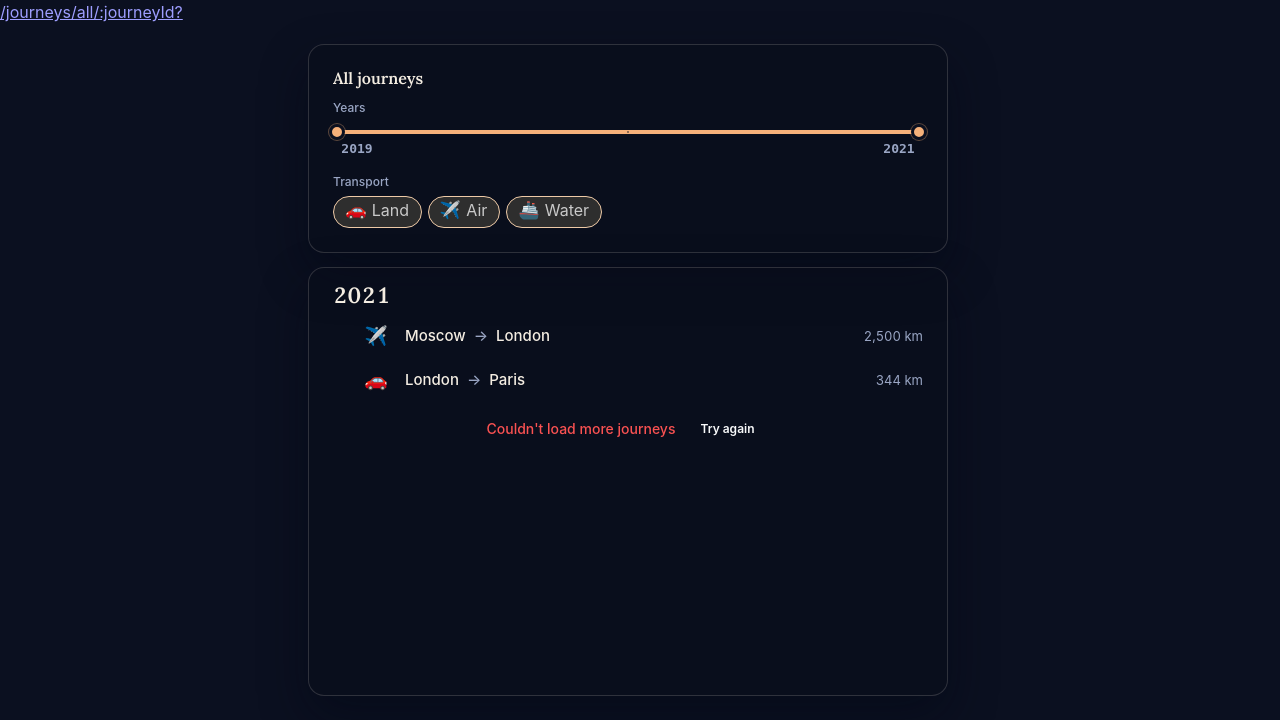
Test: AllJourneysView › порция не догрузилась — сообщение у конца ленты и повтор, который её догружает
expect the text "Couldn't load more journeys" is shown: met, box [486,419,676,439]
expect the element "2021" is shown: met, box [333,268,923,402]
Click the button "Try again". click: (728, 429)
box: [686,414,770,444]
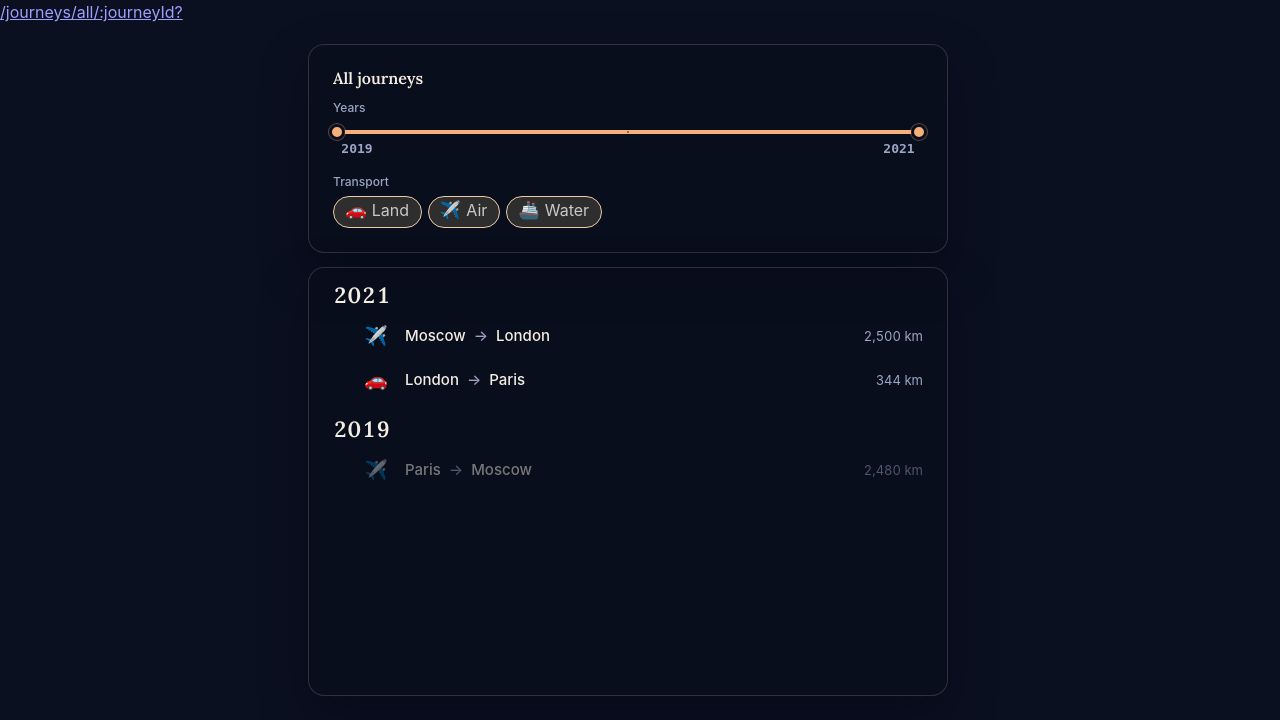
expect the element "2019" is shown: met, box [333,402,923,492]
expect the text "Couldn't load more journeys" is gone: met
